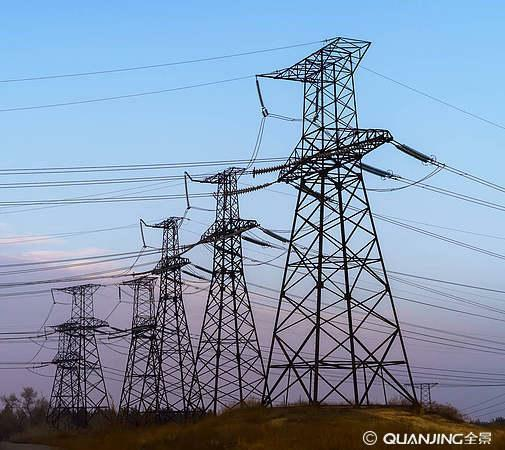power_tower: (267, 28, 423, 415), (197, 148, 276, 414), (148, 199, 197, 415), (58, 270, 112, 409), (117, 269, 166, 414)
